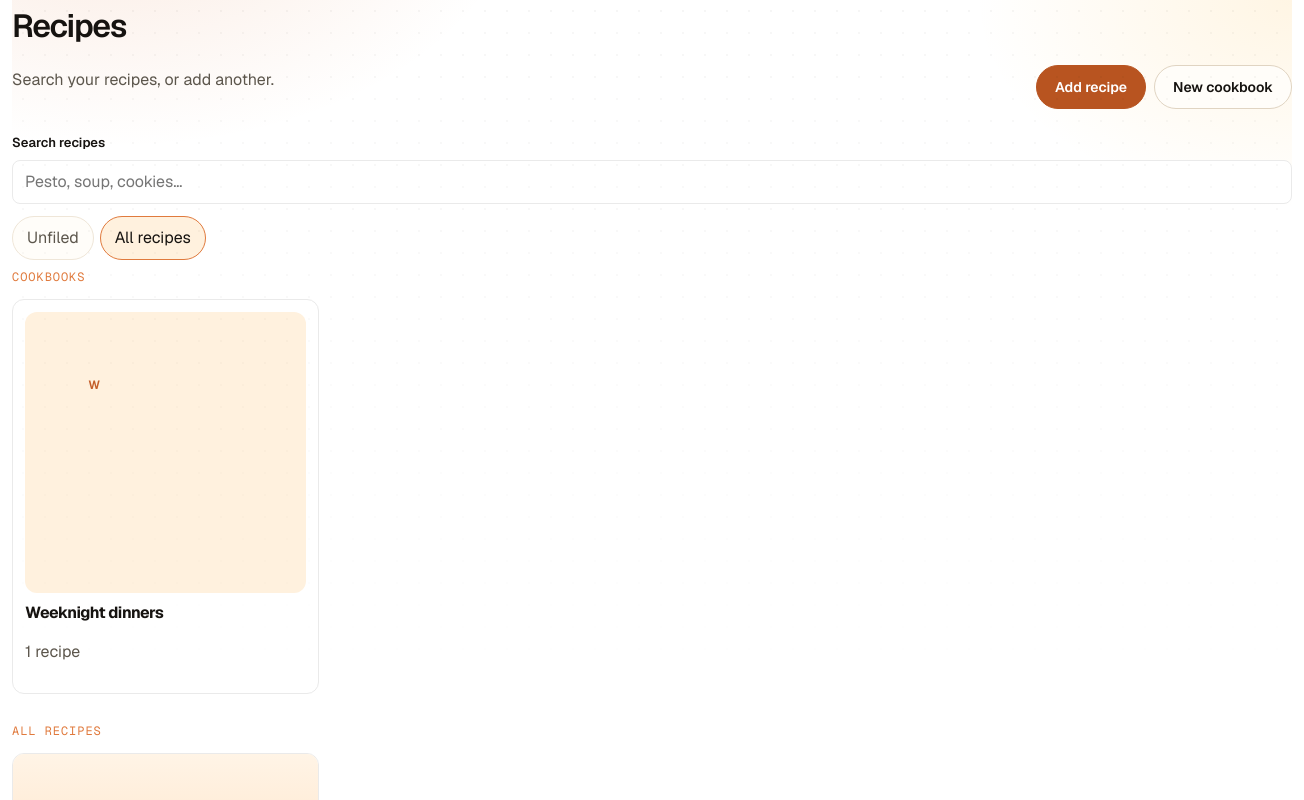
Scenario: kitchen sheet-hosted forms › searches all recipes from the shelf
Click the tab "All recipes".
click(153, 238)  # box [100, 216, 206, 260]
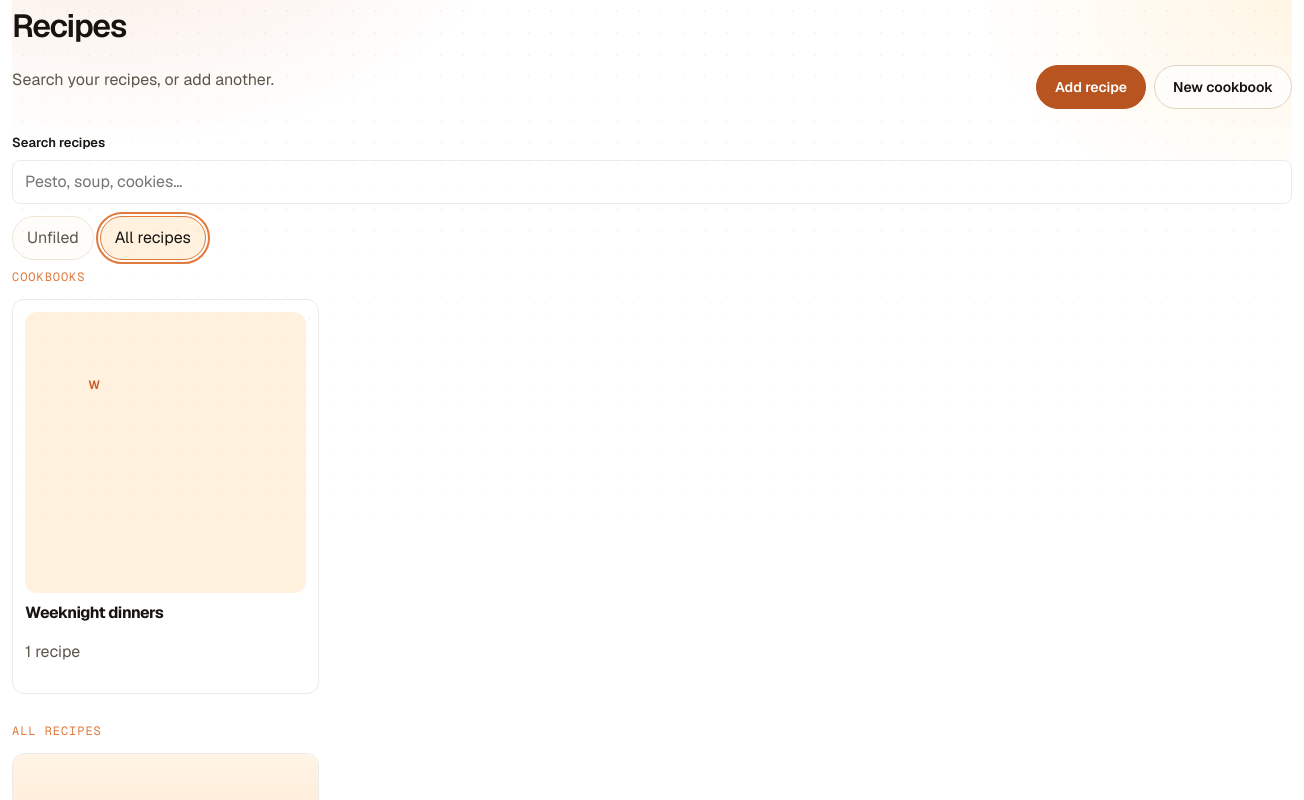
Type "pesto" into the field labelled "Search recipes".
click(652, 182); type("pesto")  # box [12, 160, 1292, 204]
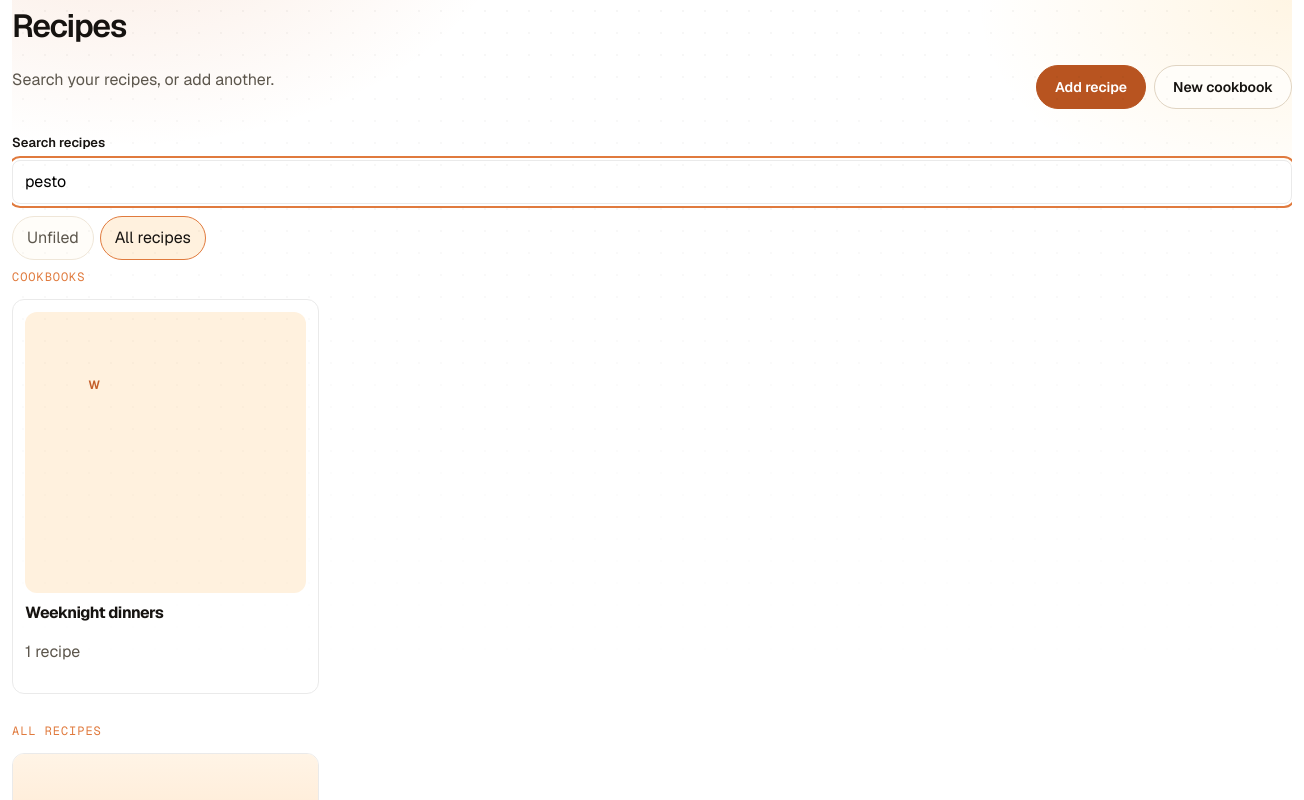
Replace the text in the field labelled "Search recipes" with "zzz" at (652, 182), box [12, 160, 1292, 204]
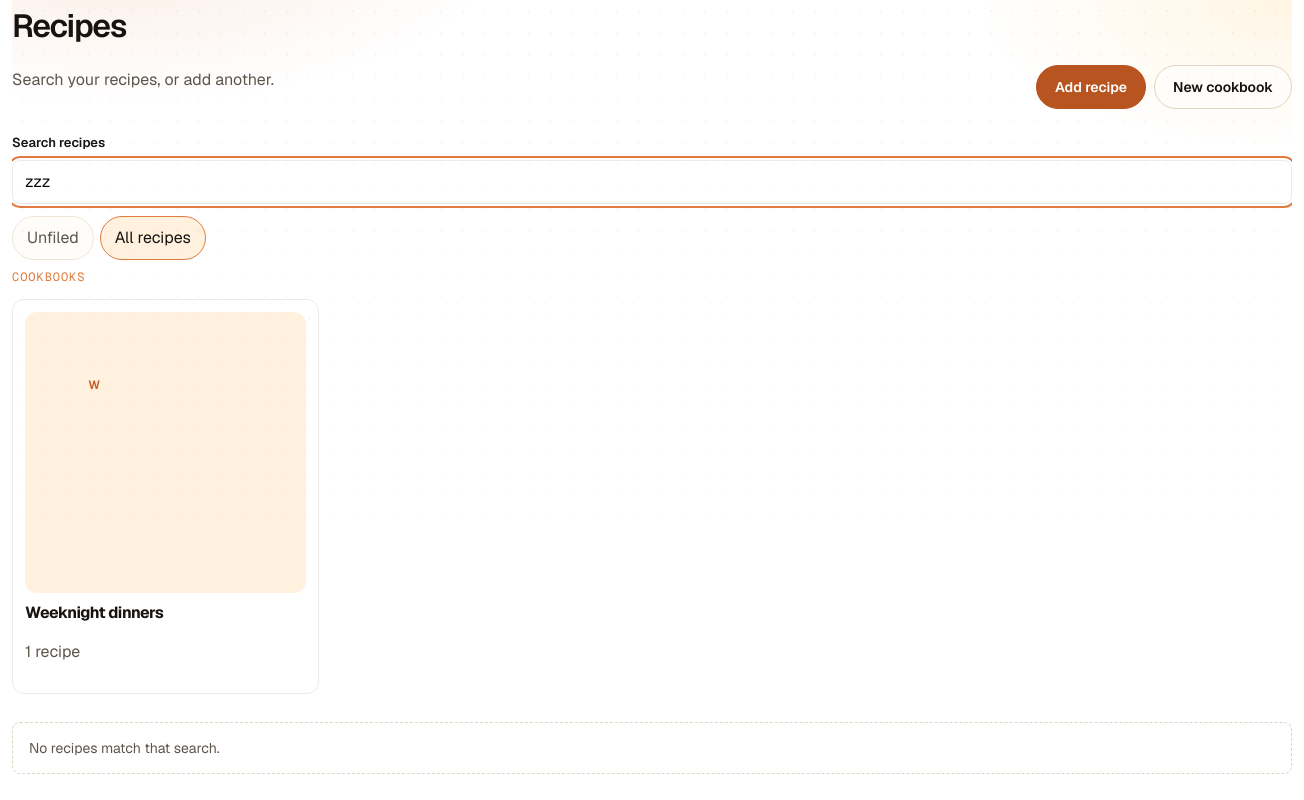
expect the text "No recipes match that search." is shown: met, box [12, 722, 1292, 774]
